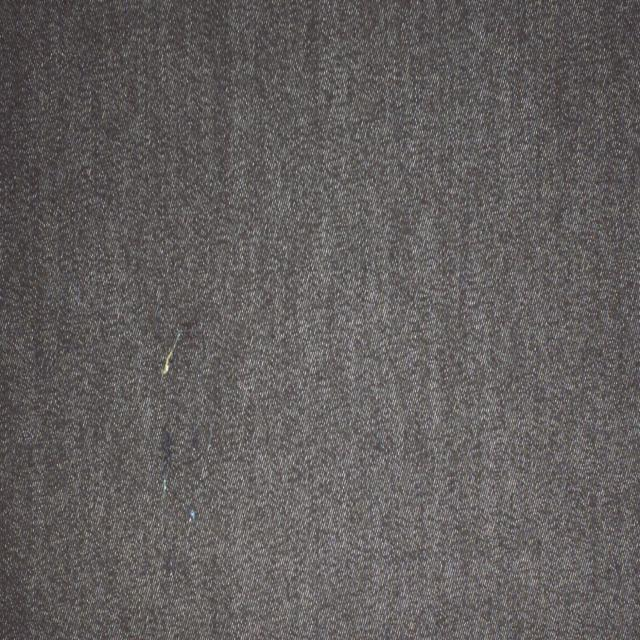Knot: (161, 330, 183, 378)
